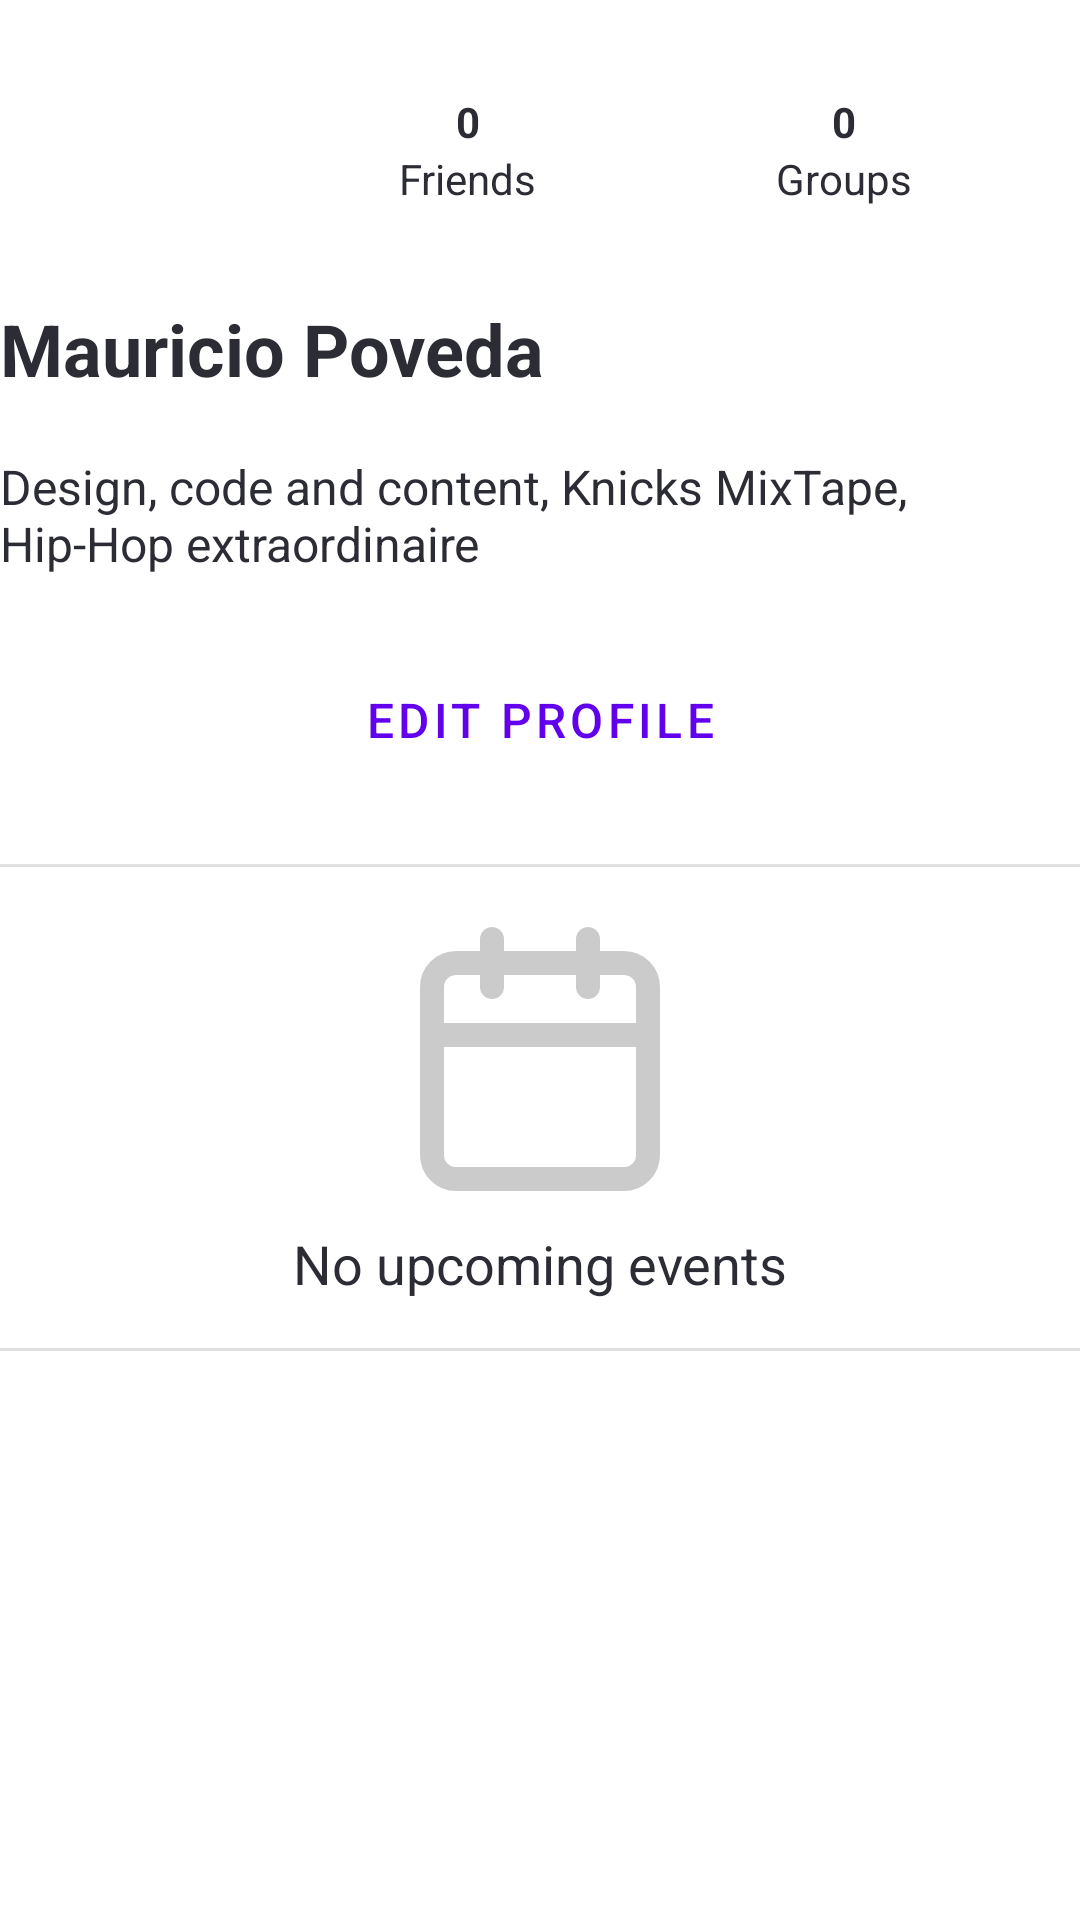

Where to tap for icons on this 1080w x 1920h app screen, as [x,y]:
feather calendar: [540,1059]
